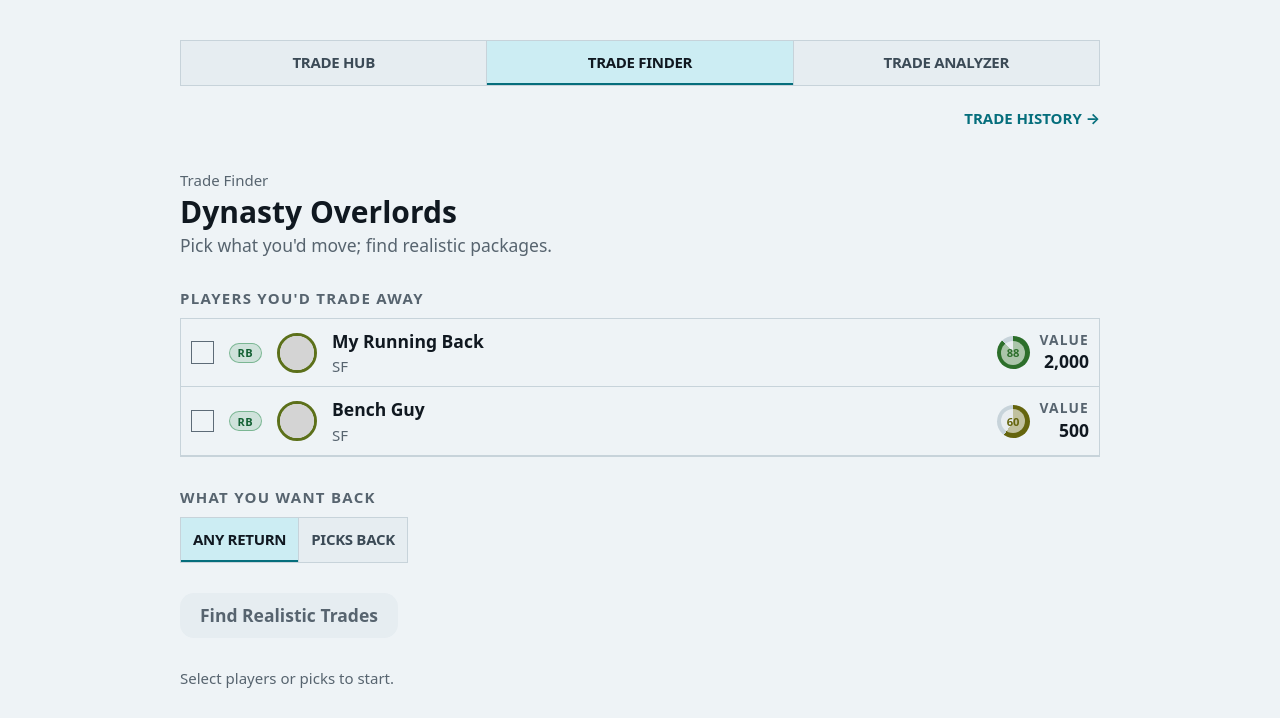
Test: TradeFinderContent › disables Find Realistic Trades until a player is selected
Check: the button "Find Realistic Trades" is disabled, box [180,593,398,638]
Click the text "My Running Back".
click(408, 342)  # box [332,329,484,354]
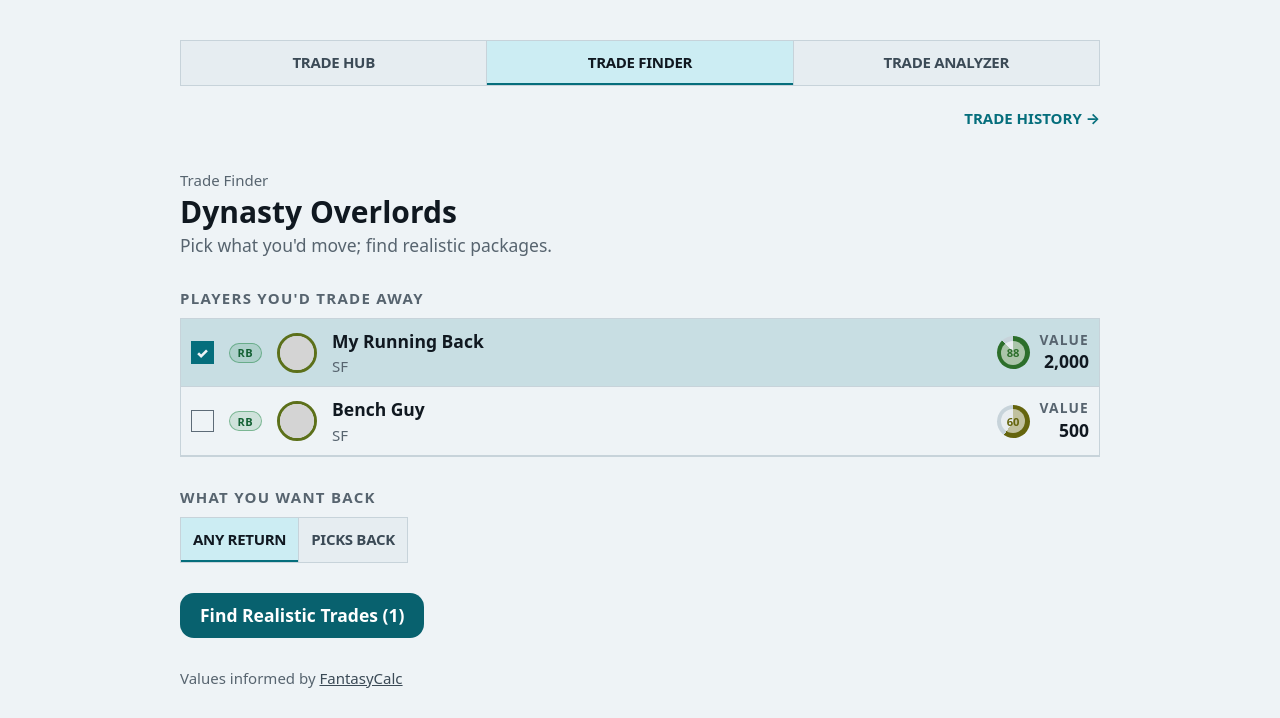
Check: the button "Find Realistic Trades (1)" is enabled, box [180,593,424,638]
